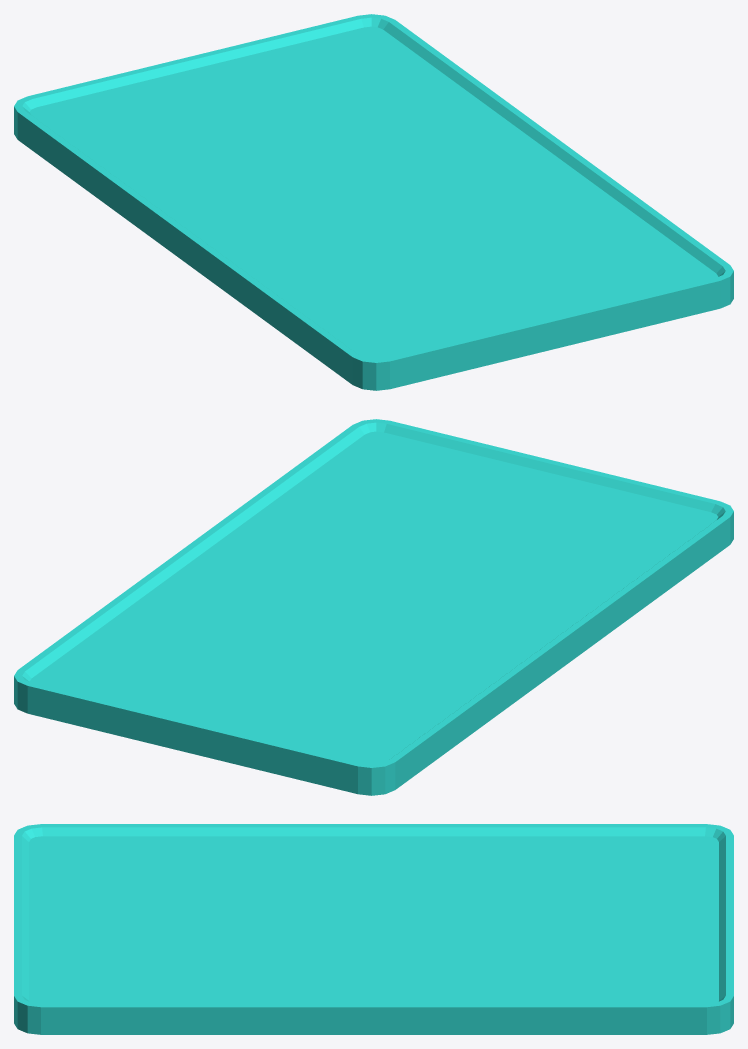
3 views of the same model, one above another, from view 1: azimuth 30°, elevation 25°; view 2: azimuth 150°, elevation 25°; view 3: azimuth 270°, elevation 25° (orthographic).
Visible parts, largest first — view 1: Cube; view 2: Cube; view 3: Cube.
Part boxes in pixels (<box>): Cube: <box>14,14,733,390</box>; Cube: <box>14,419,733,795</box>; Cube: <box>14,824,733,1034</box>.
Size of the model in its own units: 135 by 9.48 by 223.
